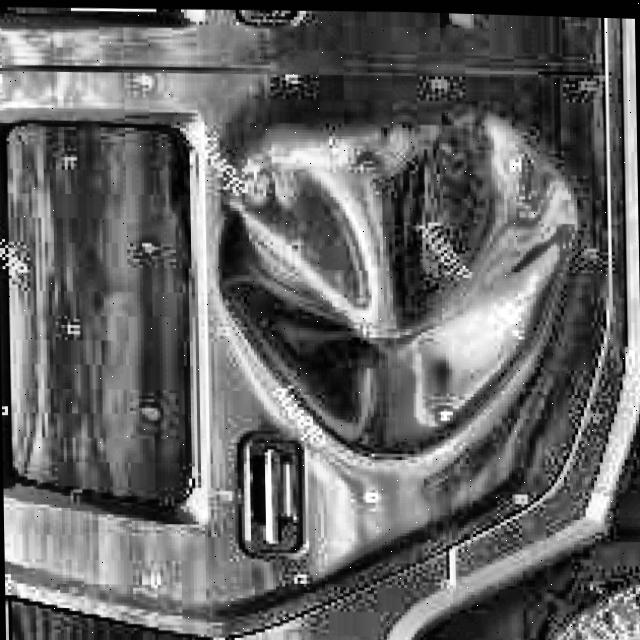door_dent: (207, 98, 586, 466)
